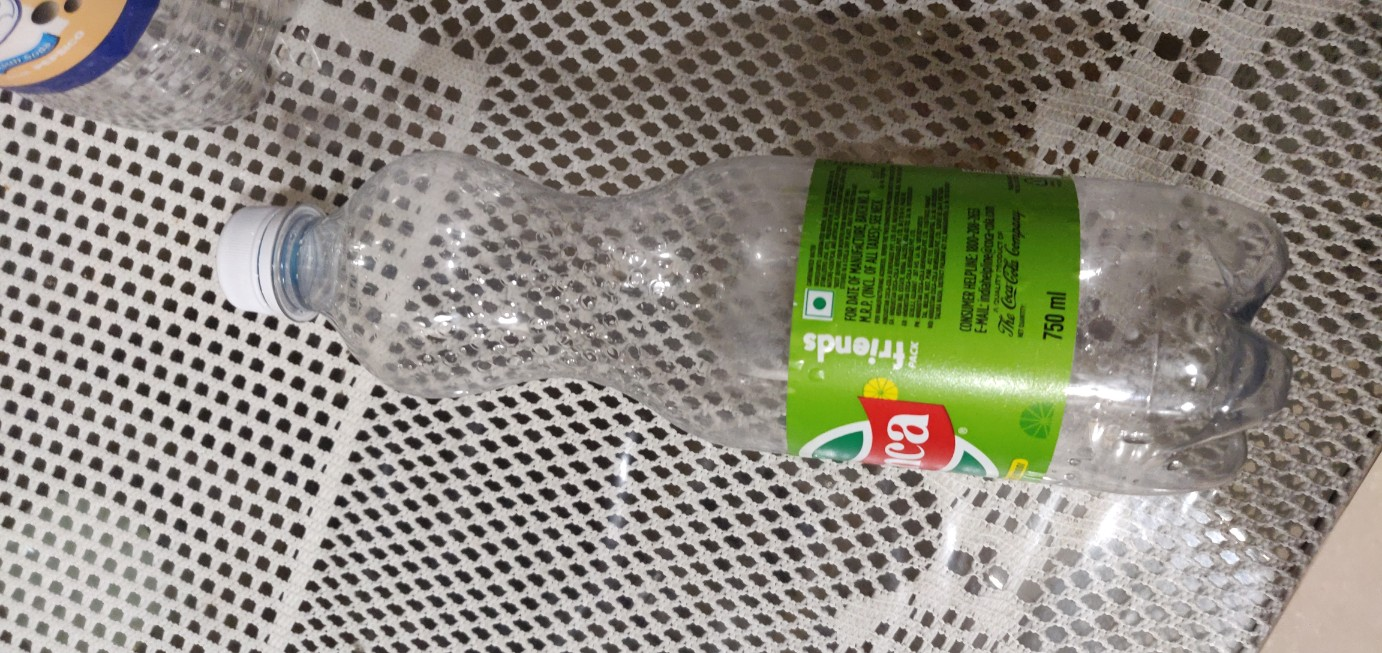Electronics: (179, 123, 1324, 522)
